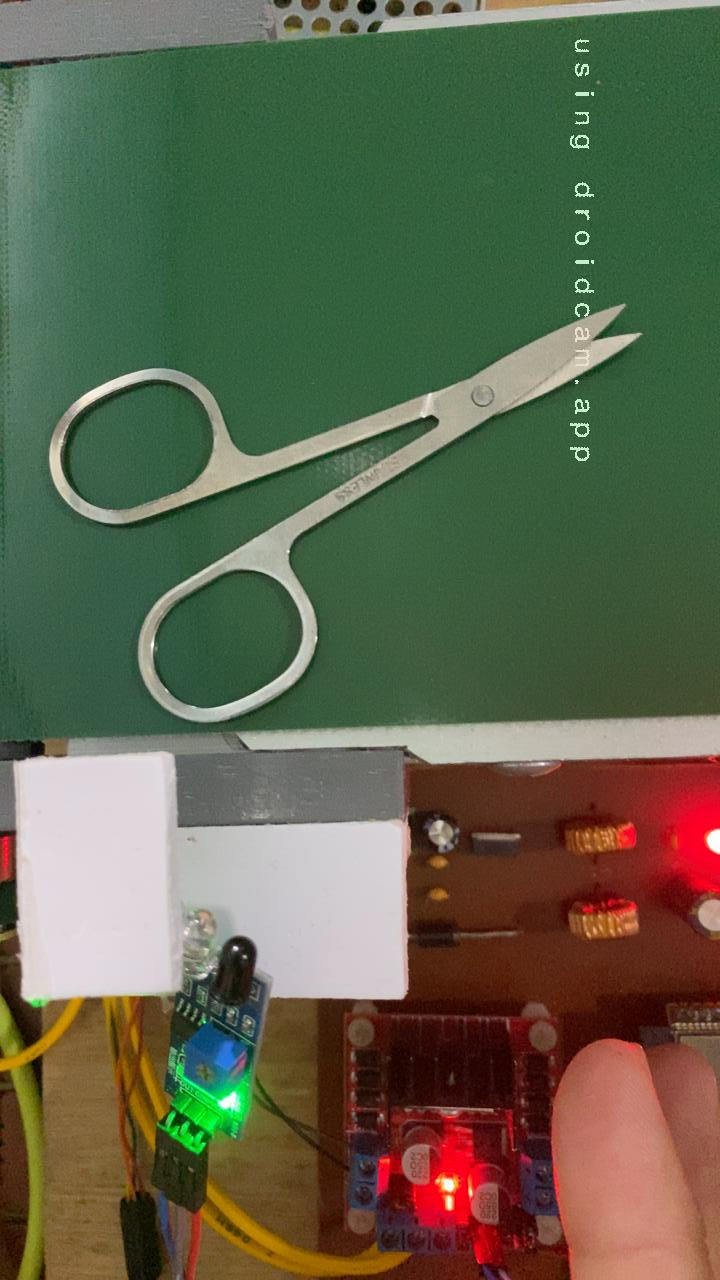scissor: (42, 298, 644, 727)
